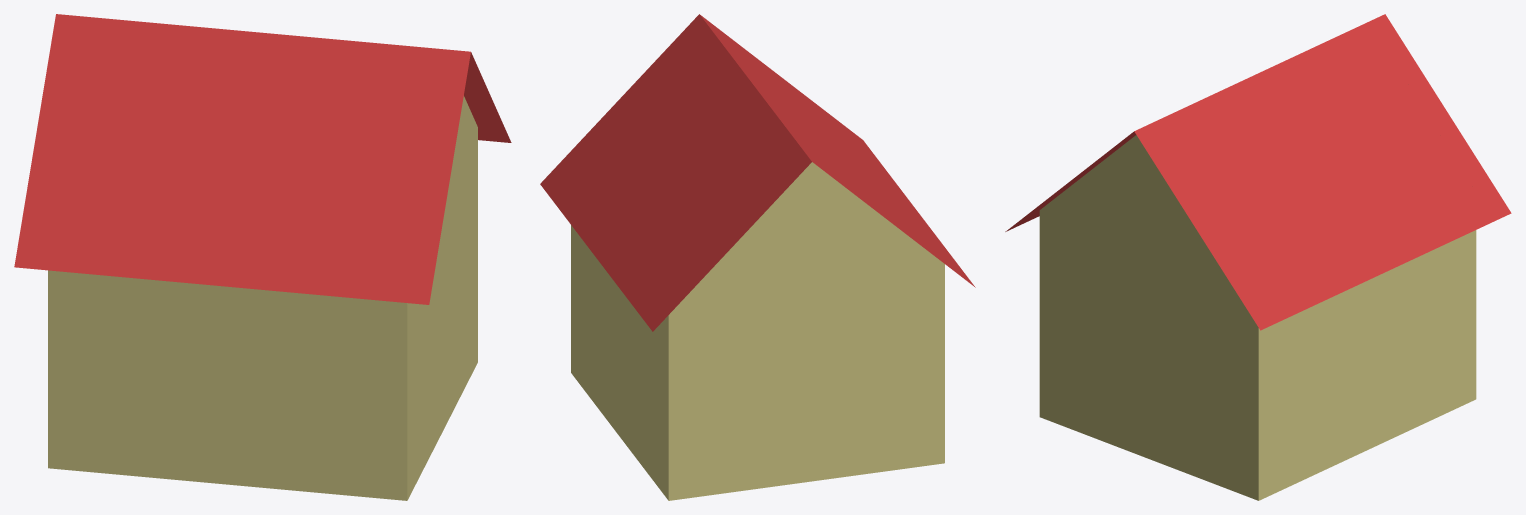
3 renders of one model, left to right at view 1: azimuth 30°, elevation 25°; view 2: azimuth 150°, elevation 25°; view 3: azimuth 270°, elevation 25°, orthographic. The views are drawn at different scales.
Size of the model in its own units: 15.22 by 15.16 by 11.09.
